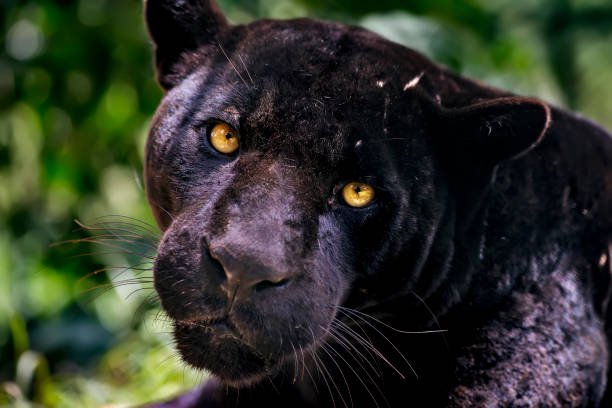panther: (121, 1, 567, 400)
